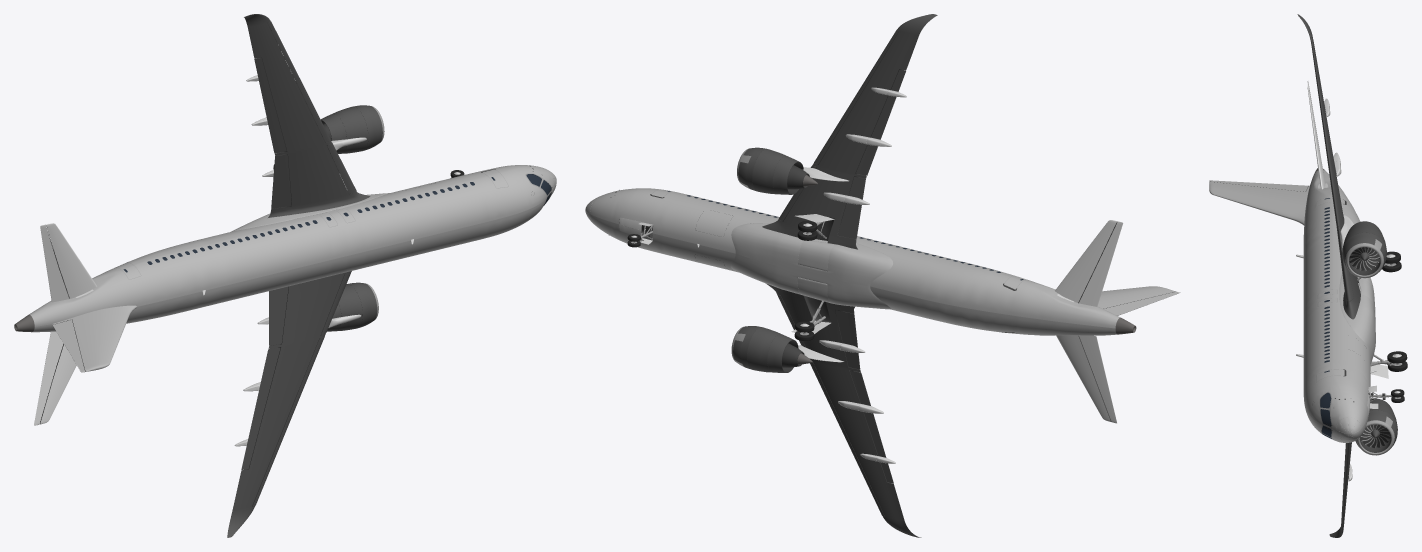
The picture shows the model from 3 angles, left to right: view 1: azimuth 30°, elevation 25°; view 2: azimuth 150°, elevation 25°; view 3: azimuth 270°, elevation 25°; orthographic projection. The views are drawn at different scales.
Parts seen in each view (by area): view 1: Obj3d66-19714258-2-287_1; view 2: Obj3d66-19714258-2-287_1; view 3: Obj3d66-19714258-2-287_1.
Boxes of the visible parts, left/top/right/bottom form: Obj3d66-19714258-2-287_1: left=14, top=14, right=556, bottom=537; Obj3d66-19714258-2-287_1: left=585, top=14, right=1180, bottom=537; Obj3d66-19714258-2-287_1: left=1209, top=14, right=1407, bottom=537.
Size of the model in its own units: 38.83 by 35.63 by 12.31.
